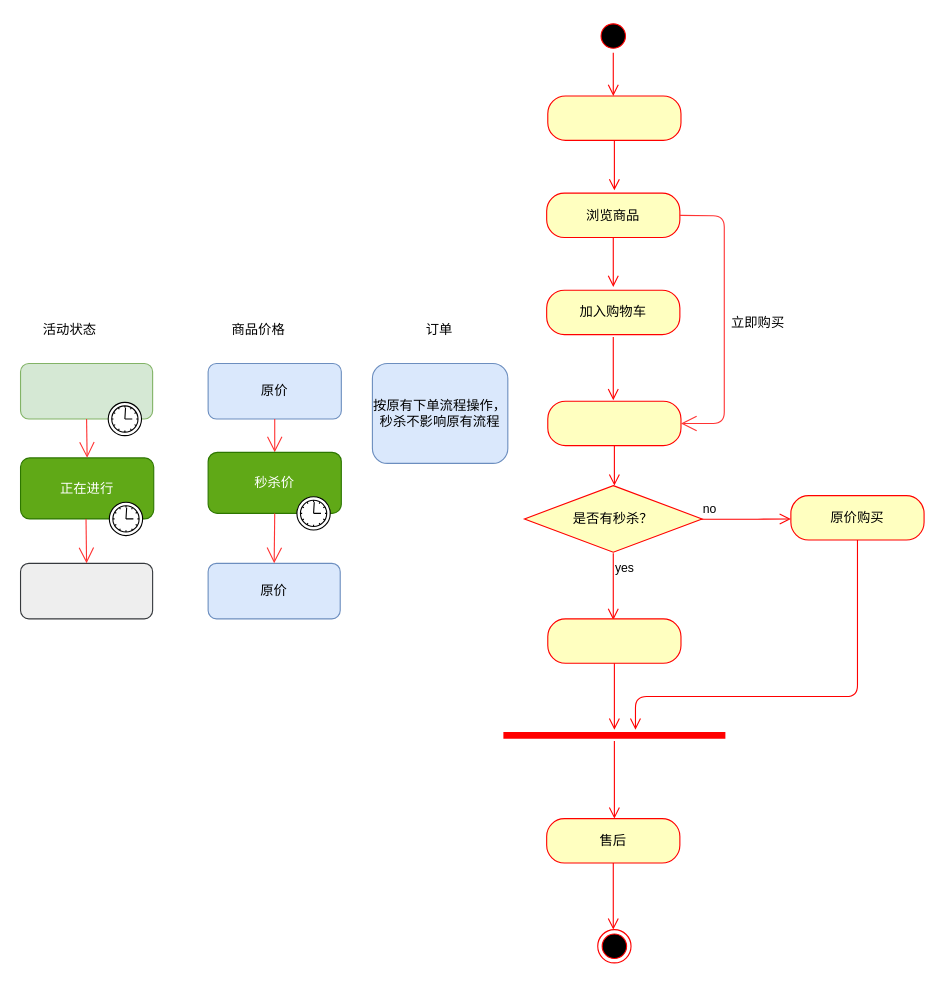
Some shapes in this 944 by 982 pixel diagram are drawn without their labels. Here are the shapes that lost their labels. From the top down, the centre of each, then its label:
At point (614, 117): "商品详情".
At point (86, 390): "即将开始".
At point (614, 423): "下单".
At point (86, 590): "结束".
At point (614, 640): "秒杀价购买".
